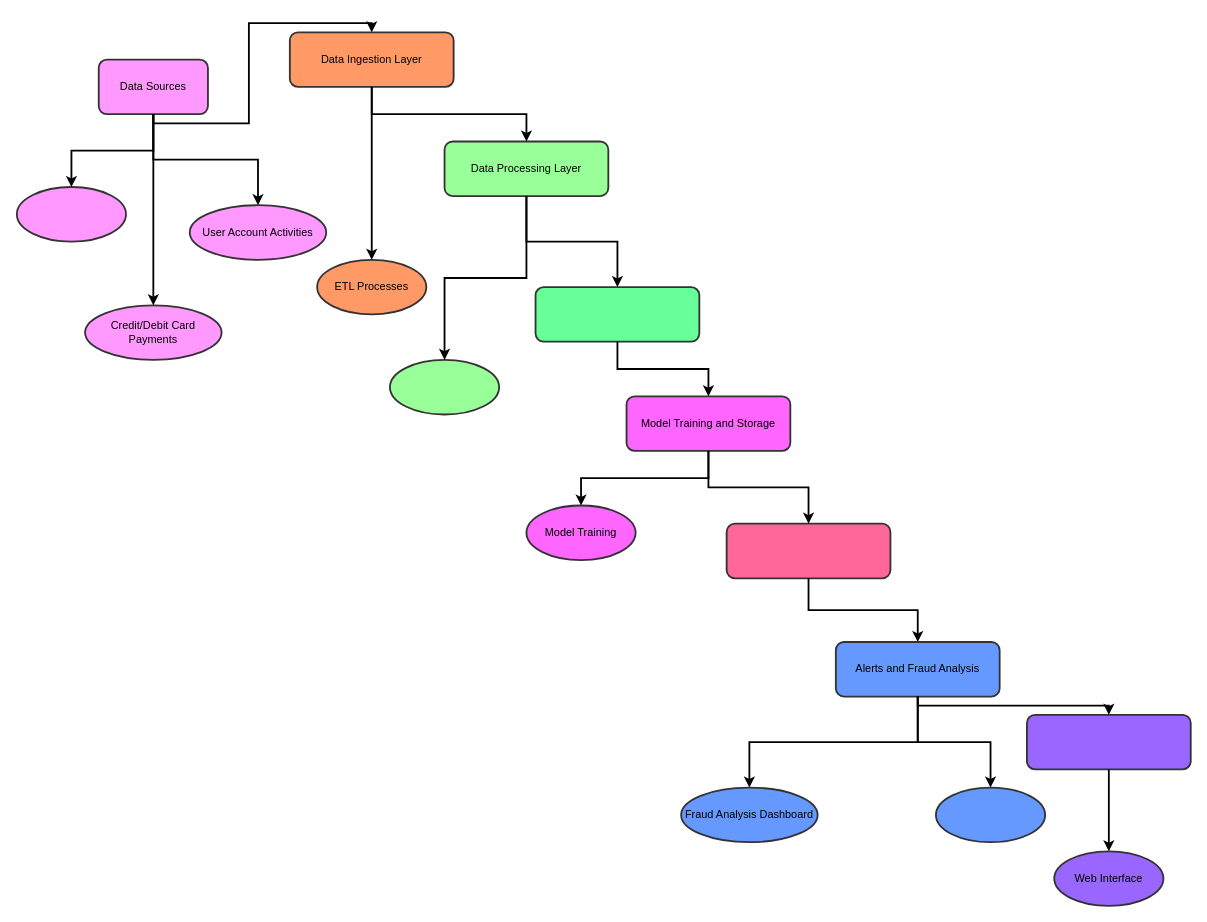
The diagram is 1207 pixels wide and 922 high, and some of its shapes have lost their labels. The shapes that lost their labels are listed below. From the top down, each one's centre as x and y in pixels, then its label:
At point 70,214: "Online Purchases".
At point 617,314: "Data Storage (DB)".
At point 444,387: "Preprocessing".
At point 808,550: "Real-Time Monitoring and Prediction".
At point 1108,741: "User Interface".
At point 990,814: "Alert System".
